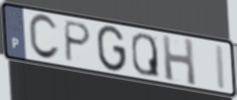C: (27, 13, 61, 62)
G: (96, 24, 128, 74)
H: (160, 33, 198, 88)
I: (214, 43, 228, 93)
P: (63, 19, 93, 64)
Q: (130, 32, 161, 79)
